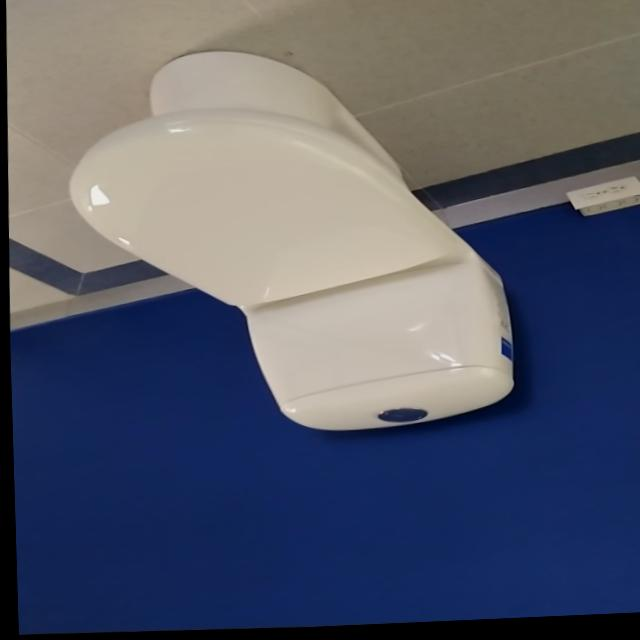toilet: (58, 40, 519, 448)
